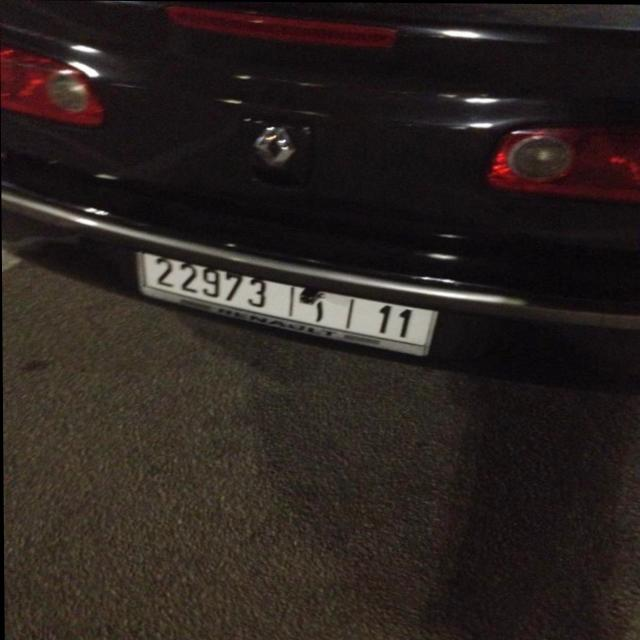License-Plate: (138, 253, 437, 355)
